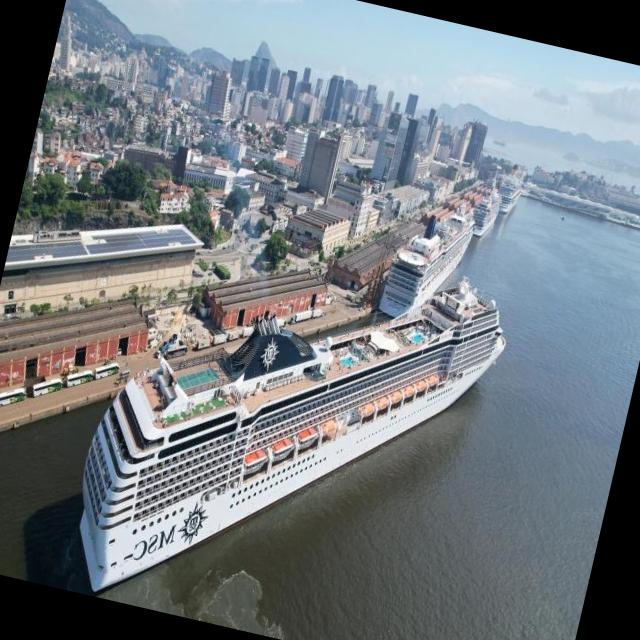Cruise: (80, 291, 505, 589), (379, 205, 474, 318), (474, 194, 498, 237), (499, 176, 521, 213)
